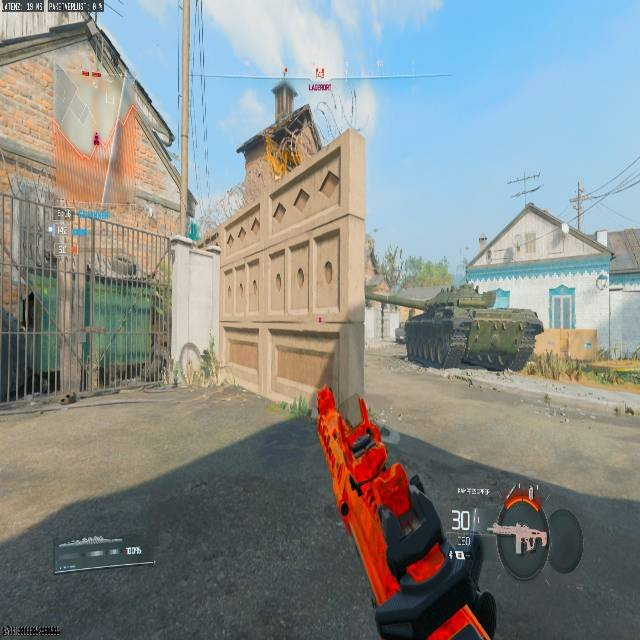head: (271, 79, 296, 107)
player: (261, 79, 313, 176)
